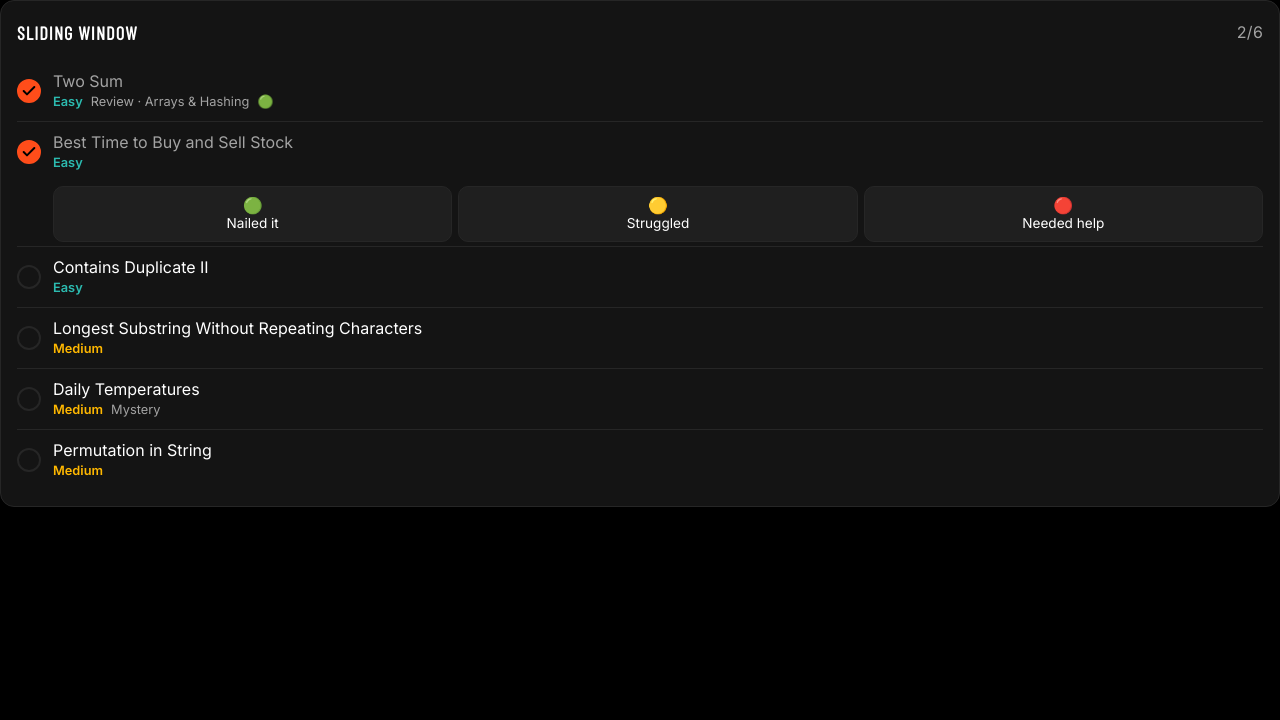
DailySetCard › a rating the worker beat says Already counted (I3/I4)
Click the button "🟢 Nailed it". click: click(253, 214)
box: [53,186,452,242]
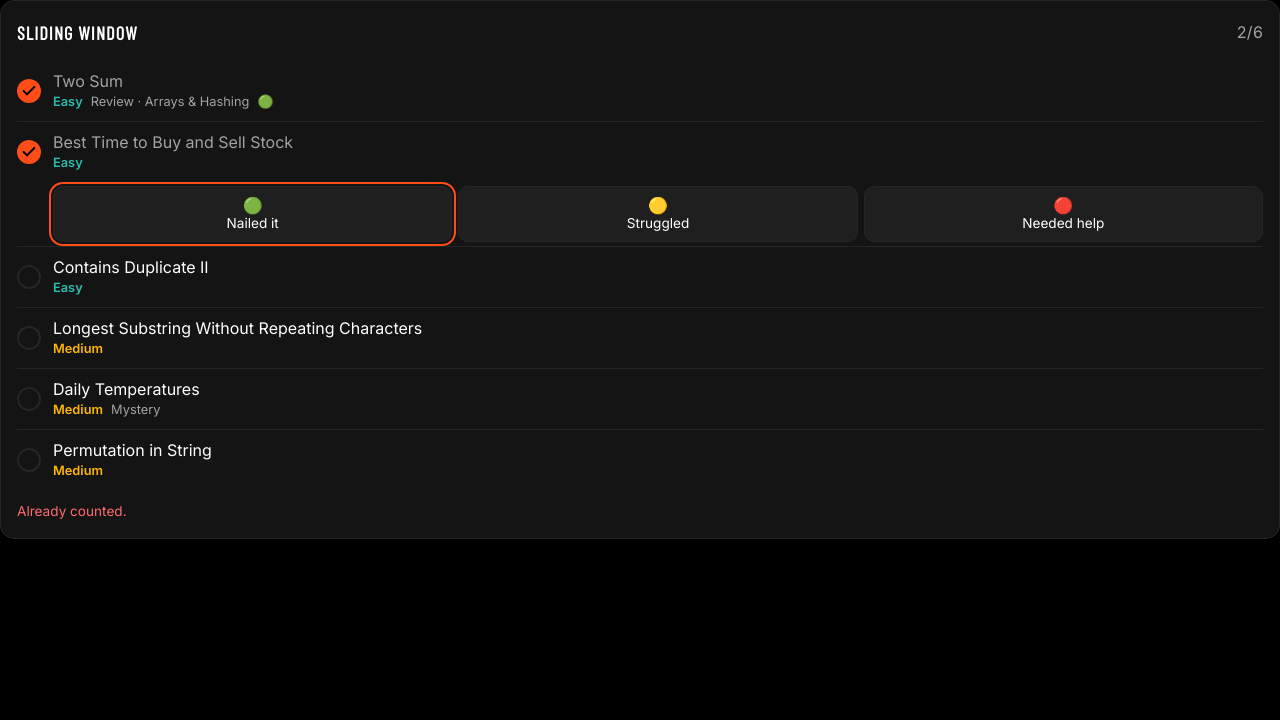
Expected: the text "Already counted." is shown, [17,503,127,519]
